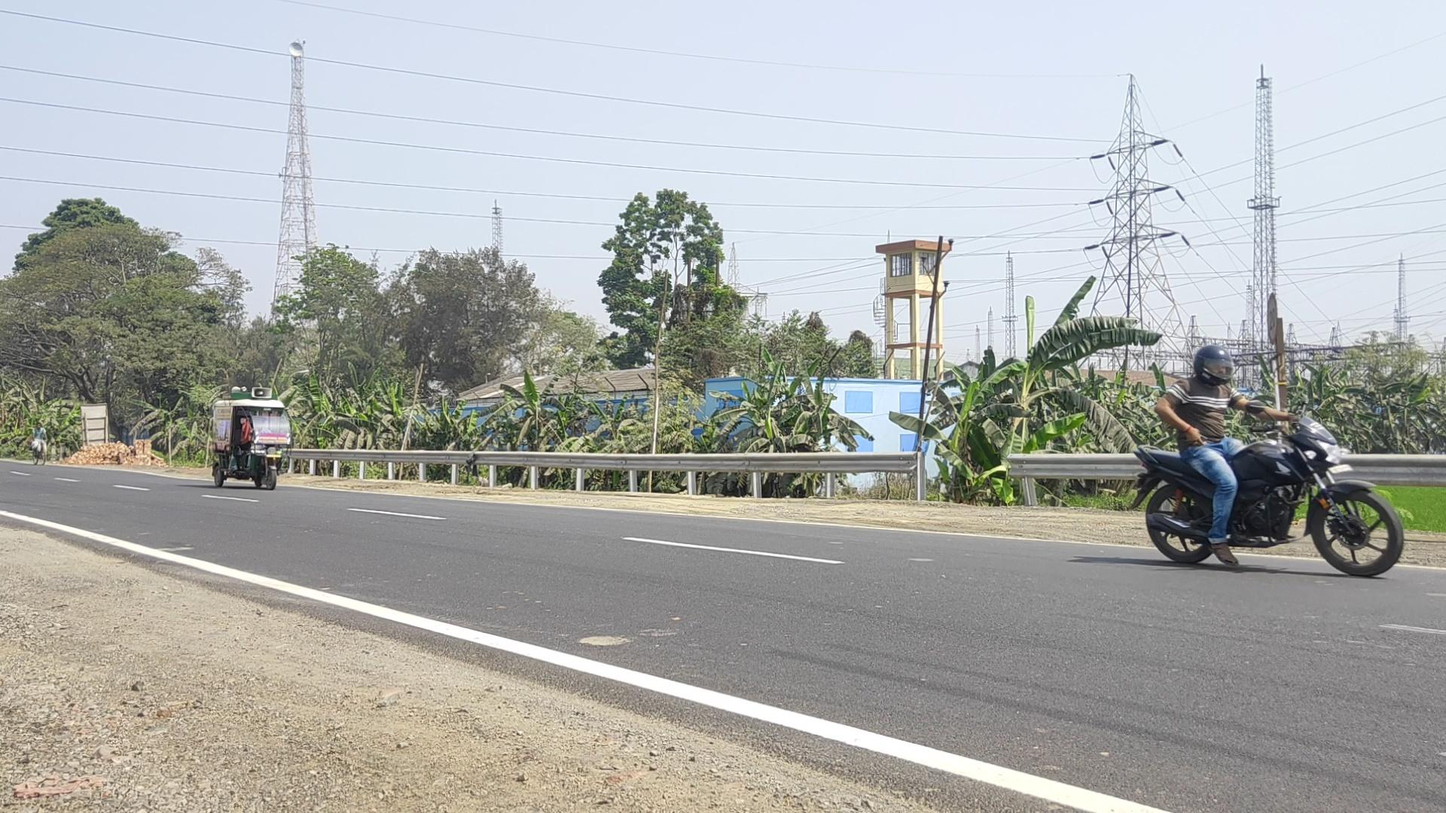Auto: (212, 386, 292, 490)
bike: (1130, 346, 1404, 577), (31, 422, 47, 466)
